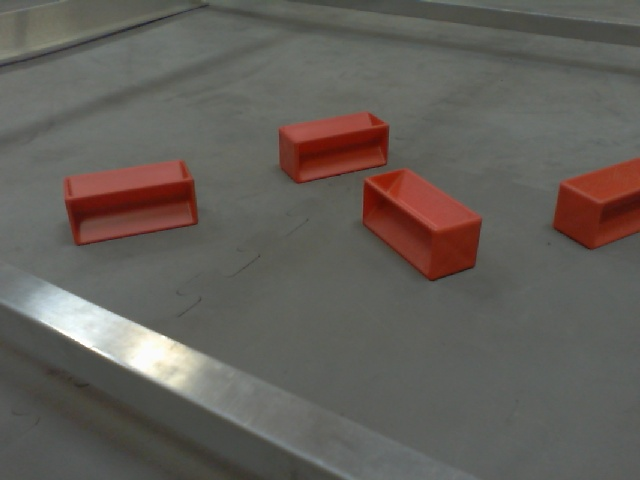RedSample: (361, 169, 485, 282), (60, 157, 201, 250), (274, 103, 391, 187), (550, 150, 640, 252)
